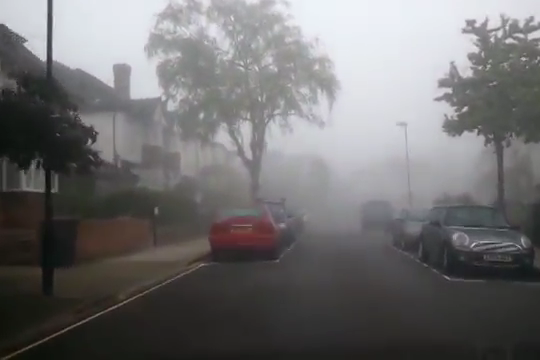car: (418, 202, 537, 278), (205, 202, 283, 260), (388, 206, 442, 254), (250, 195, 299, 245), (360, 199, 393, 234)
